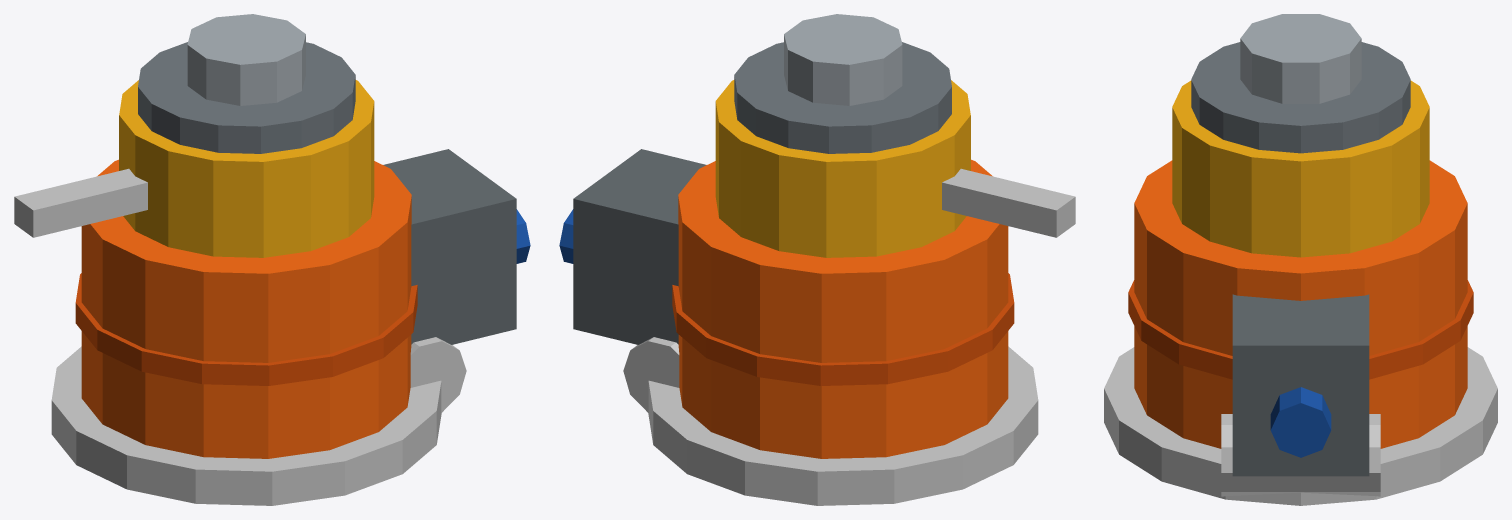
File: body.obj
The picture shows the model from 3 angles, left to right: view 1: azimuth 30°, elevation 25°; view 2: azimuth 150°, elevation 25°; view 3: azimuth 270°, elevation 25°; orthographic projection.
Size of the model in its own units: 7.5 by 5.6 by 5.2.
